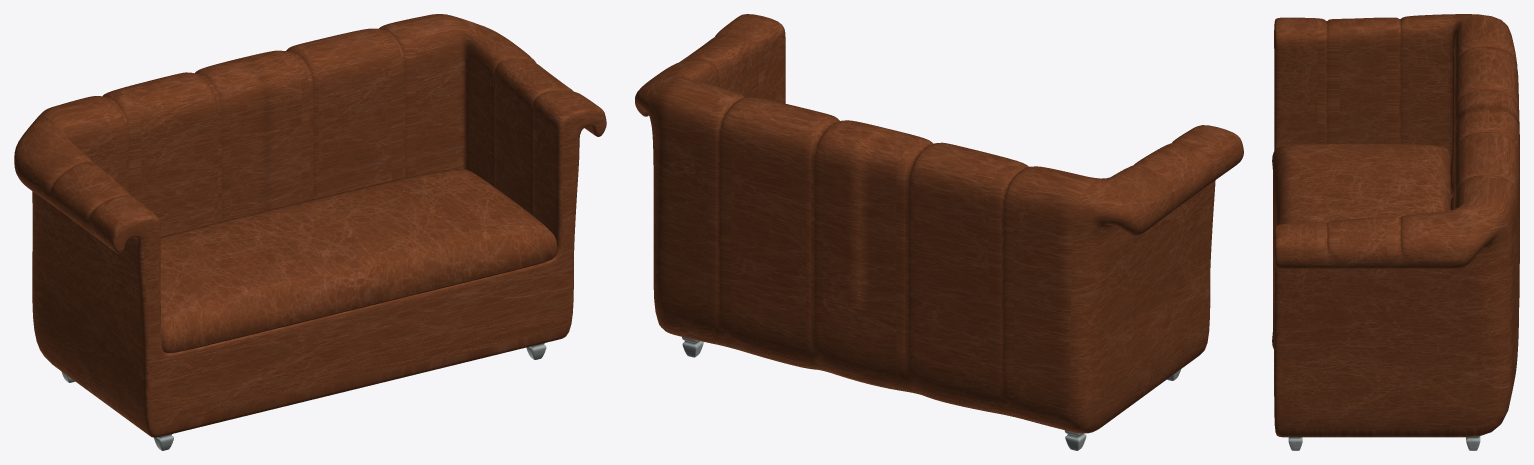
File: SofaText (1).obj
3 views of the same model, side by side, from view 1: azimuth 30°, elevation 25°; view 2: azimuth 150°, elevation 25°; view 3: azimuth 270°, elevation 25° (orthographic). The views are drawn at different scales.
Visible parts, largest first — view 1: Диван_Куб.001, Подушка_Куб; view 2: Диван_Куб.001, Ножки_Куб.003; view 3: Диван_Куб.001, Подушка_Куб, Ножки_Куб.003.
Boxes of the visible parts, x1,y1,x2,y2 form: Диван_Куб.001: [14, 14, 606, 437]; Подушка_Куб: [160, 168, 557, 353]; Диван_Куб.001: [635, 14, 1243, 433]; Ножки_Куб.003: [682, 337, 1180, 450]; Диван_Куб.001: [1274, 14, 1519, 437]; Подушка_Куб: [1272, 143, 1450, 349]; Ножки_Куб.003: [1288, 436, 1480, 450].
Bounding box in the file's own units: 3.23 × 1.67 × 1.47.
Materials: 3 (3 with a texture image).
